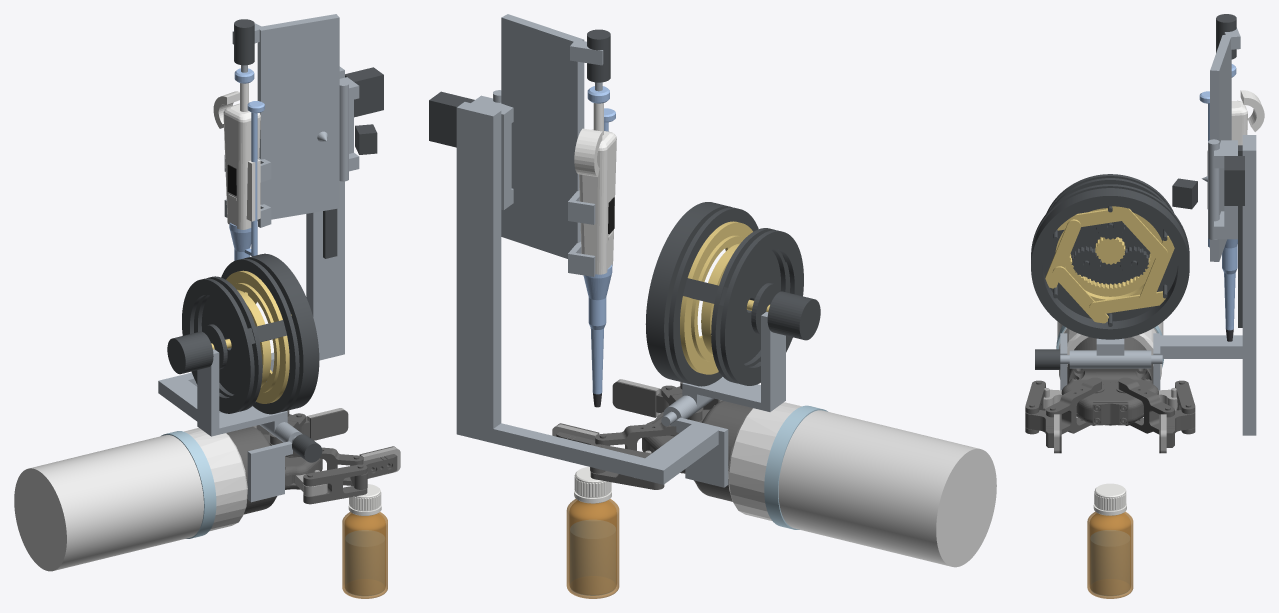
The model's file is ur10e_iris_pipette.glb.
3 renders of one model, left to right at view 1: azimuth 30°, elevation 25°; view 2: azimuth 150°, elevation 25°; view 3: azimuth 270°, elevation 25°, orthographic. The views are drawn at different scales.
Visible parts, largest first — view 1: arm_stub_housing, web, housing, mast, bottle, wrist_3_link, cam_ring, pipette_body, liquid, cheek_n, base_base, clamp_bridge (+18 smaller); view 2: arm_stub_housing, web, housing, mast, bottle, wrist_3_link, cam_ring, mast_arm_out, pipette_body, liquid, mast_arm, sun_motor (+14 smaller); view 3: housing, mast, base_base, bottle, web, liquid, mast_arm, cam_ring, knuckle, right_spring_link_spring_link, left_spring_link_spring_link, swing_motor (+27 smaller).
Part boxes in pixels (x1,y1,x2,y2): arm_stub_housing: [14, 435, 203, 571]; web: [257, 14, 339, 219]; housing: [182, 253, 319, 414]; mast: [306, 66, 344, 360]; bottle: [342, 512, 387, 598]; wrist_3_link: [184, 427, 247, 531]; cam_ring: [226, 270, 289, 403]; pipette_body: [223, 103, 260, 229]; liquid: [345, 530, 384, 595]; cheek_n: [247, 443, 284, 502]; base_base: [226, 426, 322, 514]; clamp_bridge: [197, 349, 219, 436]; arm_stub_housing: [778, 410, 996, 567]; web: [501, 14, 584, 258]; housing: [645, 202, 803, 386]; mast: [456, 102, 501, 442]; bottle: [566, 498, 619, 598]; wrist_3_link: [728, 402, 801, 520]; cam_ring: [680, 221, 752, 374]; mast_arm_out: [457, 422, 667, 484]; pipette_body: [579, 129, 616, 274]; liquid: [570, 520, 615, 595]; mast_arm: [637, 424, 718, 484]; sun_motor: [767, 291, 820, 340]; housing: [1031, 174, 1189, 339]; mast: [1242, 135, 1256, 435]; base_base: [1061, 337, 1158, 425]; bottle: [1087, 511, 1133, 598]; web: [1210, 35, 1231, 261]; liquid: [1091, 530, 1129, 595]; mast_arm: [1160, 335, 1242, 358]; cam_ring: [1055, 208, 1162, 301]; knuckle: [1069, 350, 1151, 368]; right_spring_link_spring_link: [1118, 377, 1174, 434]; left_spring_link_spring_link: [1046, 377, 1101, 434]; swing_motor: [1224, 156, 1244, 205].
Bounding box in the file's own units: 0.4029 × 0.5195 × 0.2082.
